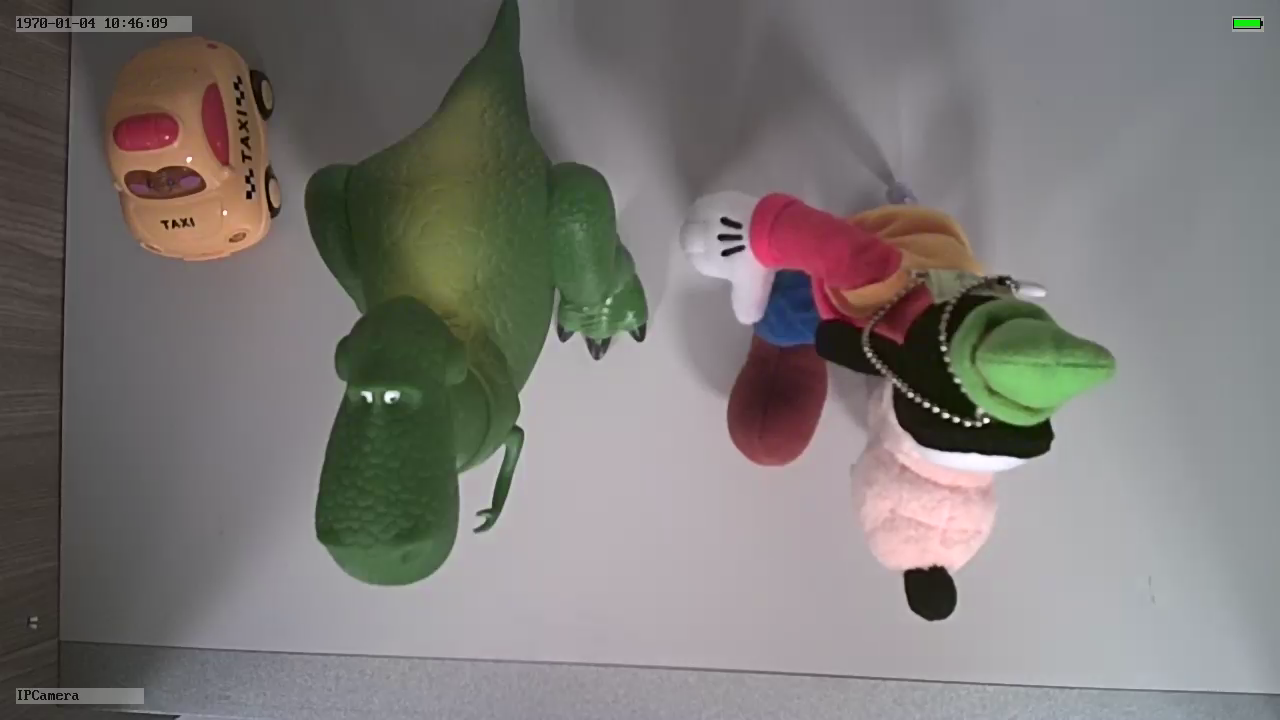goofy: (671, 179, 1119, 631)
